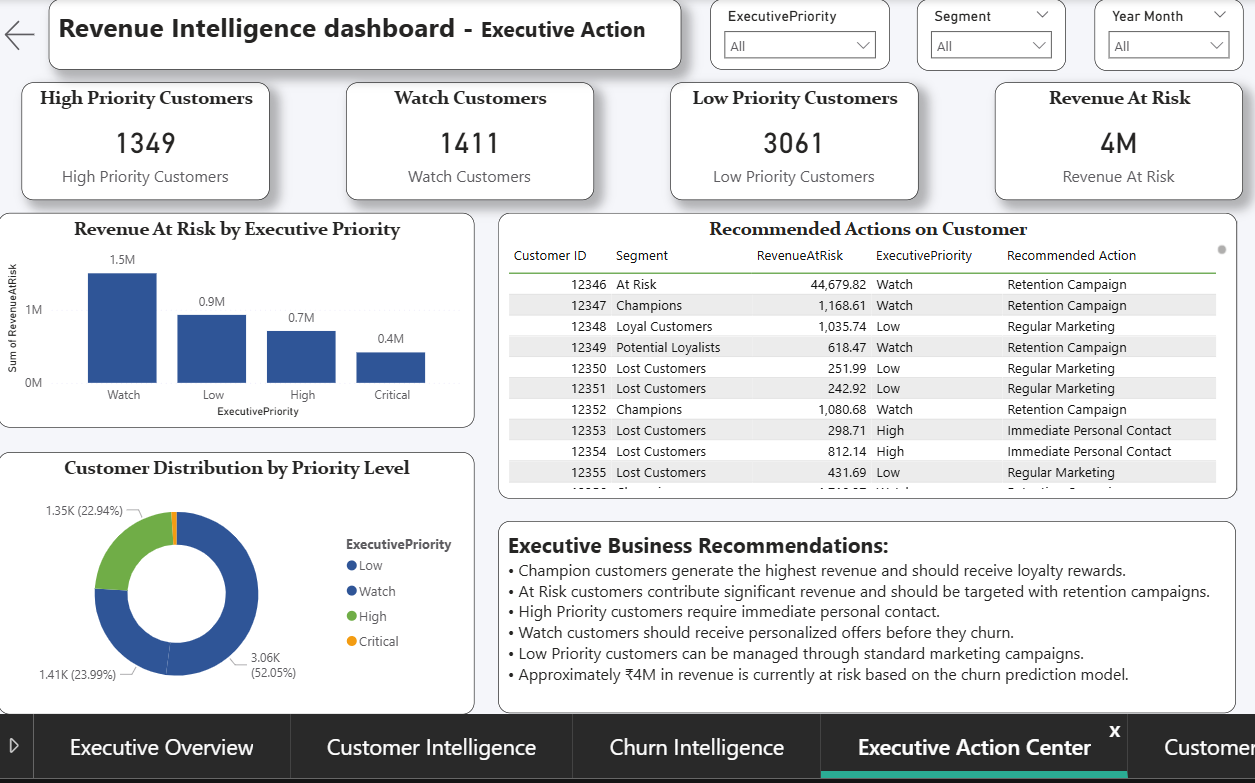

The page's visual inventory and layout, read from the dashboard file:
{"tool":"powerbi","page":{"name":"Executive Action Center","canvas":[1280,720],"ordinal":3},"visuals":[{"type":"card","title":"Watch Customers","fields":{"Values":["revenue_at_risk.Watch Customers"]},"box":[350.8,84,249.8,118.5],"z":0},{"type":"card","title":"Low Priority Customers","fields":{"Values":["revenue_at_risk.Low Priority Customers"]},"box":[677.6,84,249.8,118.5],"z":1000},{"type":"card","title":"Revenue At Risk","fields":{"Values":["revenue_at_risk.Revenue At Risk"]},"box":[1004.3,84,250.2,118.7],"z":2000},{"type":"slicer","title":"Revenue at Risk by Executive Priority","fields":{"Values":["revenue_at_risk.ExecutivePriority"]},"box":[717.2,0,180.9,71.1],"z":3000},{"type":"slicer","fields":{"Values":["rfm_customers.Segment"]},"box":[926,0,150,72],"z":4000},{"type":"slicer","fields":{"Values":["monthly_business_summary.YearMonth"]},"box":[1104,0,150,72],"z":5000},{"type":"card","title":"High Priority Customers","fields":{"Values":["revenue_at_risk.High Priority Customers"]},"box":[23.7,84,250.2,118.7],"z":6000},{"type":"clusteredColumnChart","title":"Revenue At Risk by Executive Priority","fields":{"Category":["revenue_at_risk.ExecutivePriority"],"Y":["Sum(revenue_at_risk.RevenueAtRisk)"]},"box":[0,216,480,216],"z":7000},{"type":"donutChart","title":"Customer Distribution by Priority Level","fields":{"Category":["revenue_at_risk.ExecutivePriority"],"Y":["CountNonNull(revenue_at_risk.Customer ID)"]},"box":[0,456,480,264],"z":8000},{"type":"tableEx","title":"Recommended Actions on Customer","fields":{"Values":["revenue_at_risk.Customer ID","revenue_at_risk.Segment","revenue_at_risk.RevenueAtRisk","revenue_at_risk.ExecutivePriority","revenue_at_risk.Recommended Action"]},"box":[504,216,744,288],"z":9000},{"type":"textbox","box":[504,525.5,743.1,193.8],"z":10000},{"type":"textbox","box":[51.7,0,637.5,71.1],"z":11000},{"type":"actionButton","box":[2.2,17.2,96.9,40.9],"z":12000}]}

Visuals, with their boxes on the page's 1280x720 design canvas (x1, y1, x2, y2). These are canvas units, not pixel positions in the 1255x783 screenshot, which may show the page scaled, cropped or inside an application window:
"Watch Customers" card: left=351, top=84, right=601, bottom=202
"Low Priority Customers" card: left=678, top=84, right=927, bottom=202
"Revenue At Risk" card: left=1004, top=84, right=1254, bottom=203
"Revenue at Risk by Executive Priority" slicer: left=717, top=0, right=898, bottom=71
slicer - rfm_customers.Segment: left=926, top=0, right=1076, bottom=72
slicer - monthly_business_summary.YearMonth: left=1104, top=0, right=1254, bottom=72
"High Priority Customers" card: left=24, top=84, right=274, bottom=203
"Revenue At Risk by Executive Priority" clusteredColumnChart: left=0, top=216, right=480, bottom=432
"Customer Distribution by Priority Level" donutChart: left=0, top=456, right=480, bottom=720
"Recommended Actions on Customer" tableEx: left=504, top=216, right=1248, bottom=504
textbox: left=504, top=526, right=1247, bottom=719
textbox: left=52, top=0, right=689, bottom=71
actionButton: left=2, top=17, right=99, bottom=58
